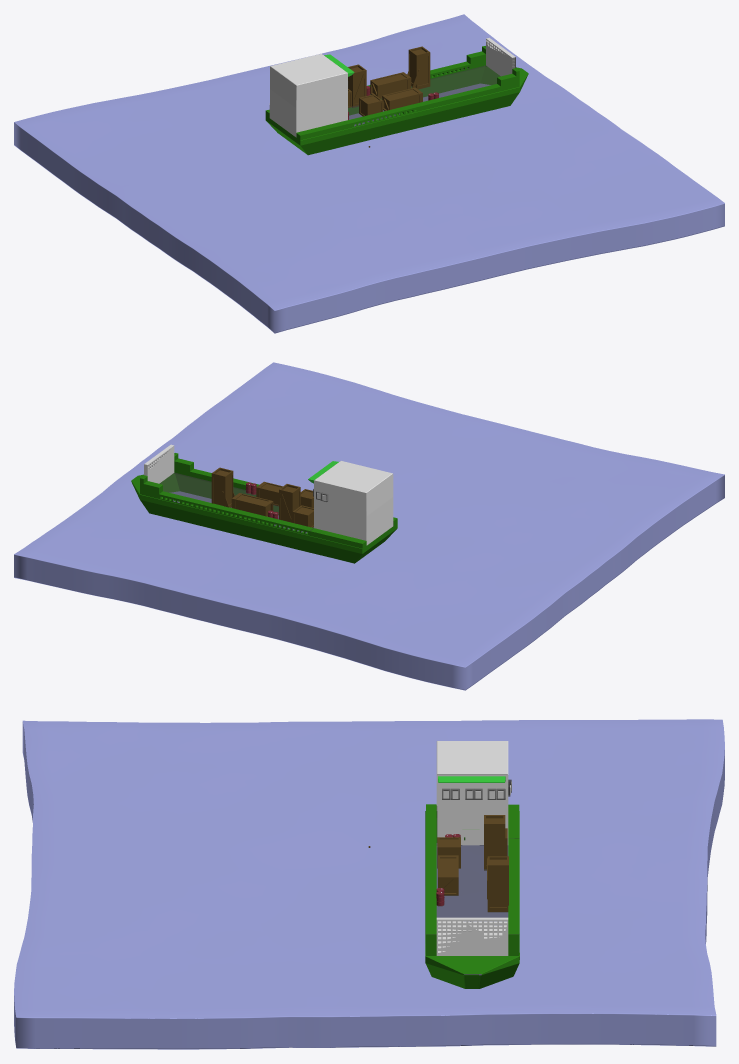
The model's file is Finalscene.fbx.
3 views of the same model, one above another, from view 1: azimuth 30°, elevation 25°; view 2: azimuth 150°, elevation 25°; view 3: azimuth 270°, elevation 25° (orthographic). The views are drawn at different scales.
Parts seen in each view (by area): view 1: Water, Boat, Cube.007, Cube.006, Cube.003, Cube.005; view 2: Water, Boat, Cube.007, Cube.006, Cube.005; view 3: Water, Boat, Cube.007, Cube.005, Cube.003.
Part boxes in pixels (x1,y1,x2,y2): Water: [14, 14, 724, 333]; Boat: [265, 37, 528, 155]; Cube.007: [408, 46, 430, 89]; Cube.006: [370, 72, 411, 98]; Cube.003: [382, 87, 422, 110]; Cube.005: [348, 64, 366, 107]; Water: [14, 362, 724, 690]; Boat: [131, 444, 397, 563]; Cube.007: [211, 467, 233, 507]; Cube.006: [231, 493, 273, 516]; Cube.005: [279, 484, 300, 522]; Water: [14, 719, 724, 1049]; Boat: [425, 741, 519, 988]; Cube.007: [487, 856, 508, 911]; Cube.005: [484, 815, 505, 870]; Cube.003: [438, 855, 458, 895].
Bounding box in the file's own units: 89194 × 17882 × 89886.
